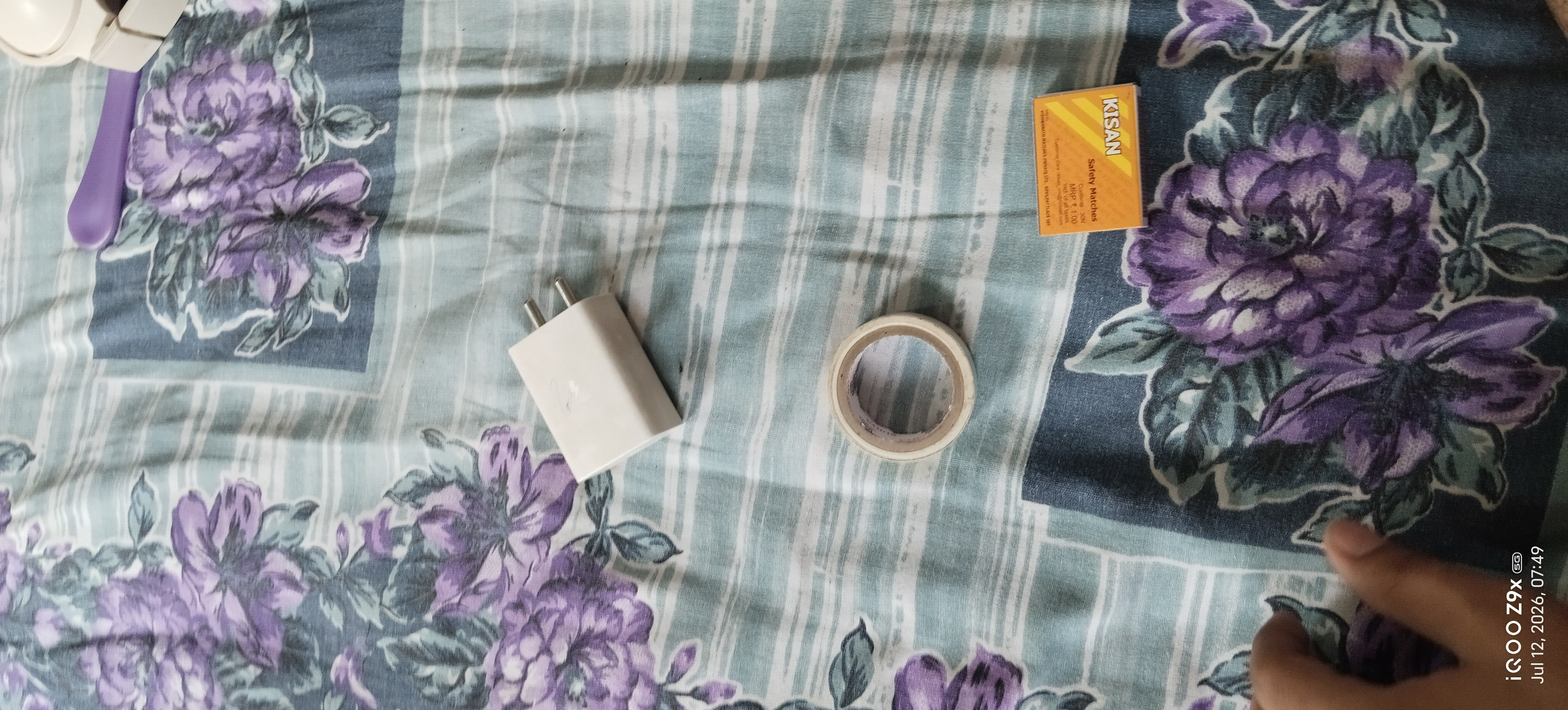charger: (464, 249, 708, 493)
matchbox: (1014, 78, 1189, 256)
tape_roll: (815, 282, 990, 466)
